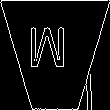M_S: (35, 30, 75, 80)
